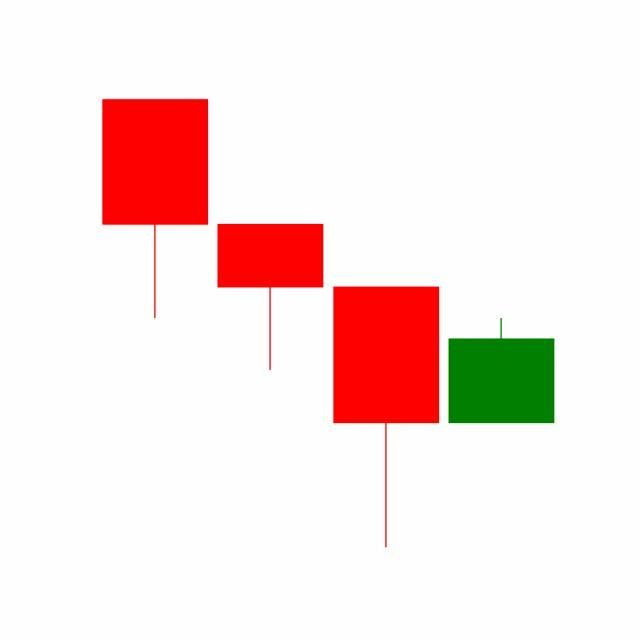Marubozu: (444, 317, 560, 425)
